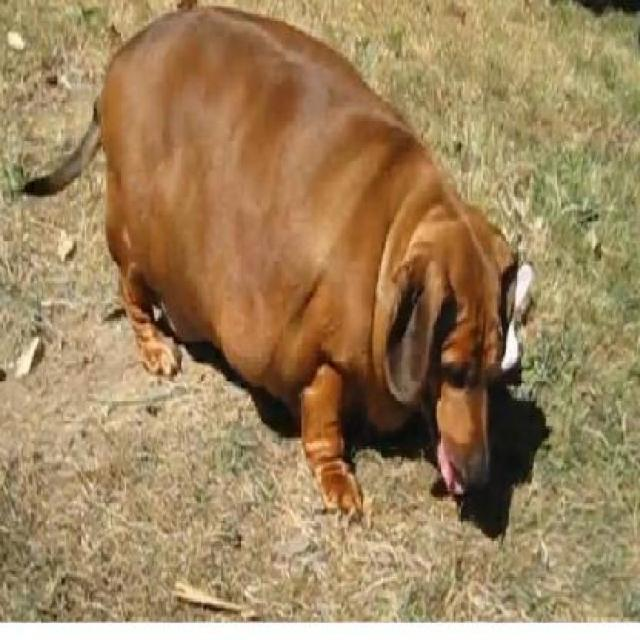Dog: (17, 6, 523, 539)
